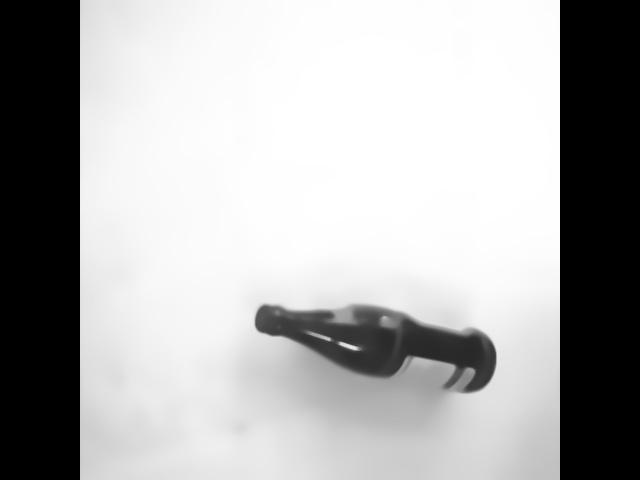Glass: (255, 304, 503, 395)
